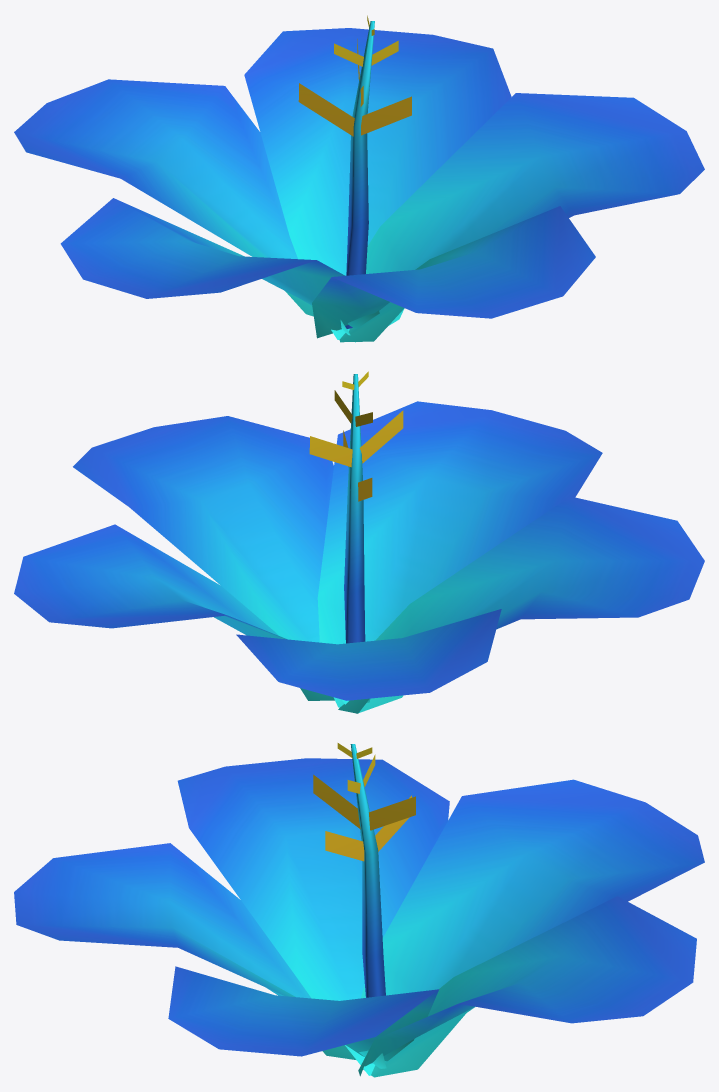
The model's file is Hibiscus_BlueSkyBlue.fbx.
3 renders of one model, top to bottom at view 1: azimuth 30°, elevation 25°; view 2: azimuth 150°, elevation 25°; view 3: azimuth 270°, elevation 25°, orthographic. The views are drawn at different scales.
Visible parts, largest first — view 1: Hibiscus_BlueSkyBlue; view 2: Hibiscus_BlueSkyBlue; view 3: Hibiscus_BlueSkyBlue.
Part boxes in pixels (box(x1,y1,x2,y2)): Hibiscus_BlueSkyBlue: box(14, 15, 704, 342); Hibiscus_BlueSkyBlue: box(14, 371, 704, 713); Hibiscus_BlueSkyBlue: box(14, 743, 704, 1077).
Bounding box in the file's own units: 40.86 × 20.85 × 39.5.
